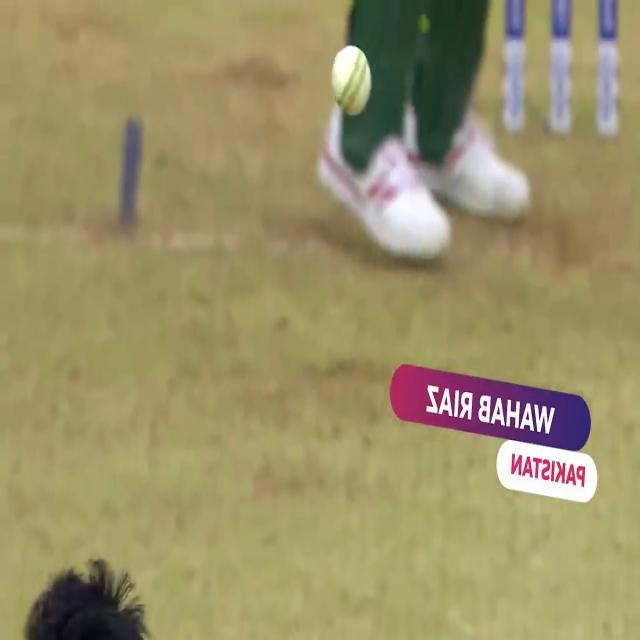ball: (330, 42, 376, 117)
